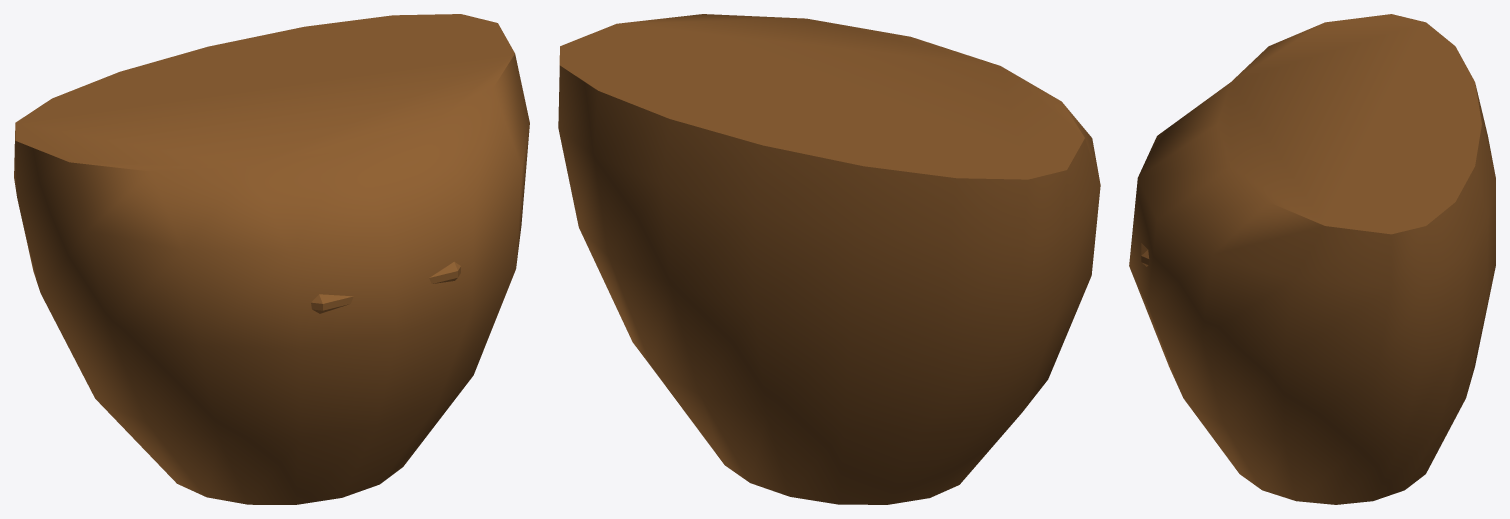
File: npc_beard_full.glb
3 renders of one model, left to right at view 1: azimuth 30°, elevation 25°; view 2: azimuth 150°, elevation 25°; view 3: azimuth 270°, elevation 25°, orthographic. The views are drawn at different scales.
Parts seen in each view (by area): view 1: npc_beard_full; view 2: npc_beard_full; view 3: npc_beard_full.
Part boxes in pixels (left/top/right/bottom): npc_beard_full: left=14, top=14, right=529, bottom=504; npc_beard_full: left=558, top=14, right=1100, bottom=504; npc_beard_full: left=1129, top=14, right=1495, bottom=504.
Size of the model in its own units: 0.15 by 0.105 by 0.1055.
